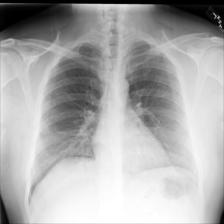normal: (27, 32, 205, 224)
